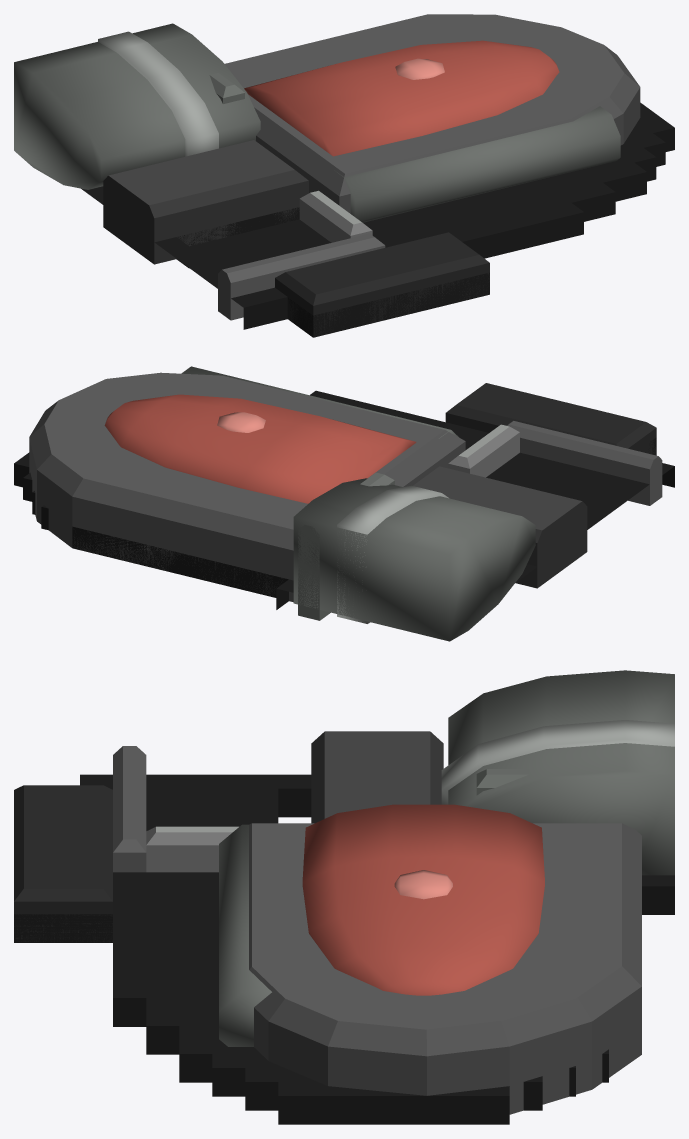
Rendered from newshu-55.glb.
The picture shows the model from 3 angles, top to bottom: view 1: azimuth 30°, elevation 25°; view 2: azimuth 150°, elevation 25°; view 3: azimuth 270°, elevation 25°; orthographic projection. The views are drawn at different scales.
Visible parts, largest first — view 1: newshu-55; view 2: newshu-55; view 3: newshu-55.
Part boxes in pixels (x1,y1,x2,y2): newshu-55: (14,14,674,337); newshu-55: (14,366,674,641); newshu-55: (14,670,674,1124).
Bounding box in the file's own units: 1.92 × 0.38 × 1.67.
